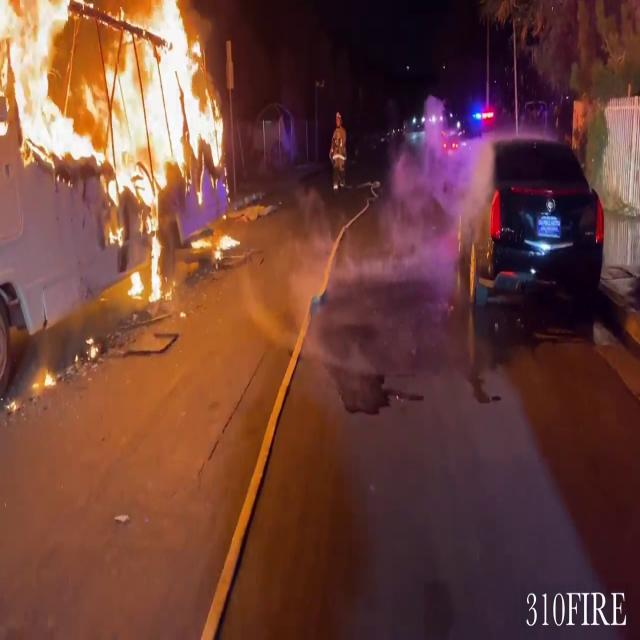Fire: (1, 0, 230, 294)
Smoke: (390, 96, 500, 258)
